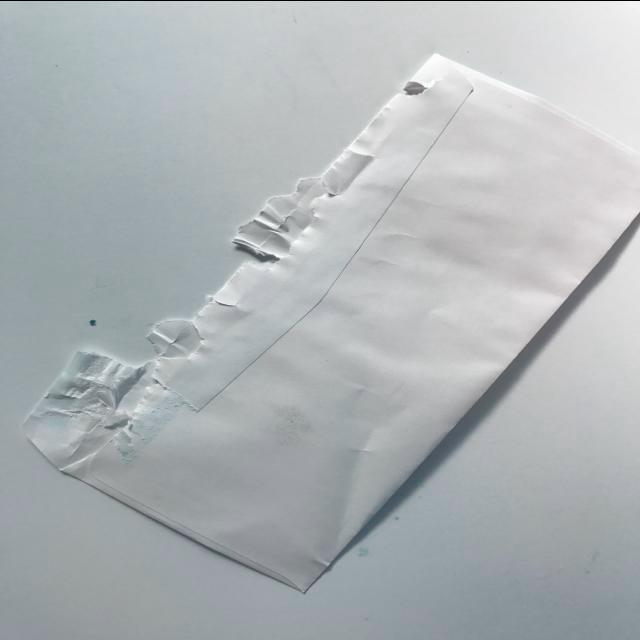paper: (7, 26, 640, 604)
